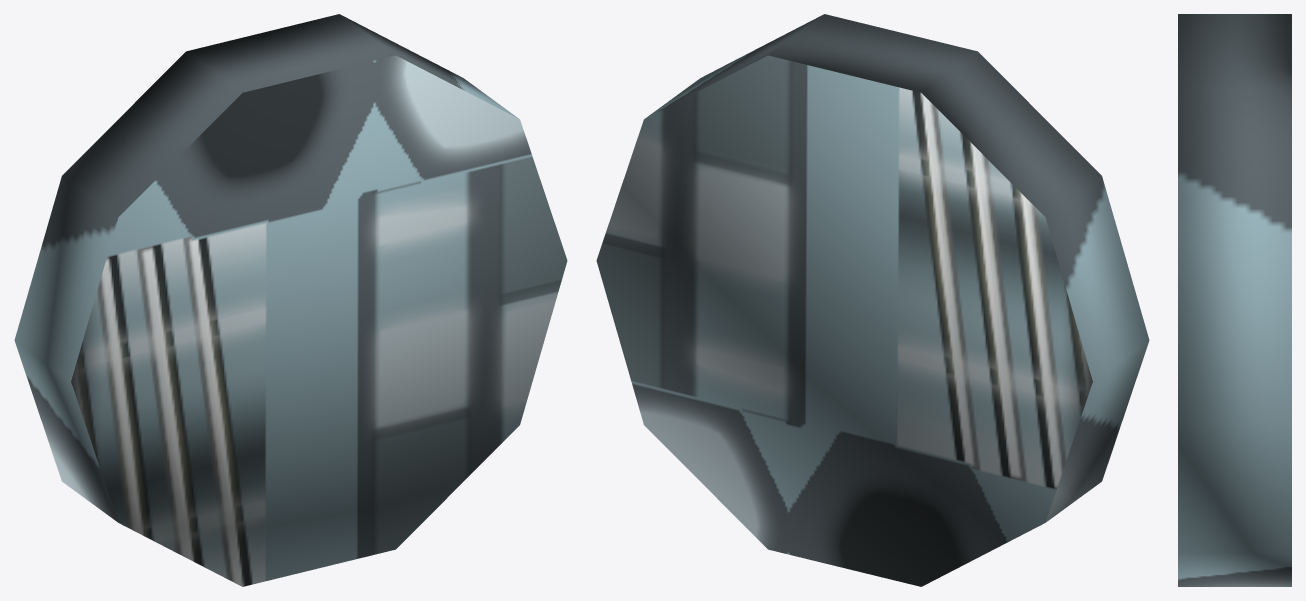
Rendered from acc_miscButton.FBX.
3 views of the same model, side by side, from view 1: azimuth 30°, elevation 25°; view 2: azimuth 150°, elevation 25°; view 3: azimuth 270°, elevation 25° (orthographic).
Parts seen in each view (by area): view 1: acc_miscButton; view 2: acc_miscButton; view 3: acc_miscButton.
Boxes of the visible parts, left/top/right/bottom form: acc_miscButton: left=14, top=14, right=567, bottom=586; acc_miscButton: left=596, top=14, right=1149, bottom=586; acc_miscButton: left=1178, top=14, right=1291, bottom=586.
Size of the model in its own units: 31.95 by 30.39 by 6.3.
